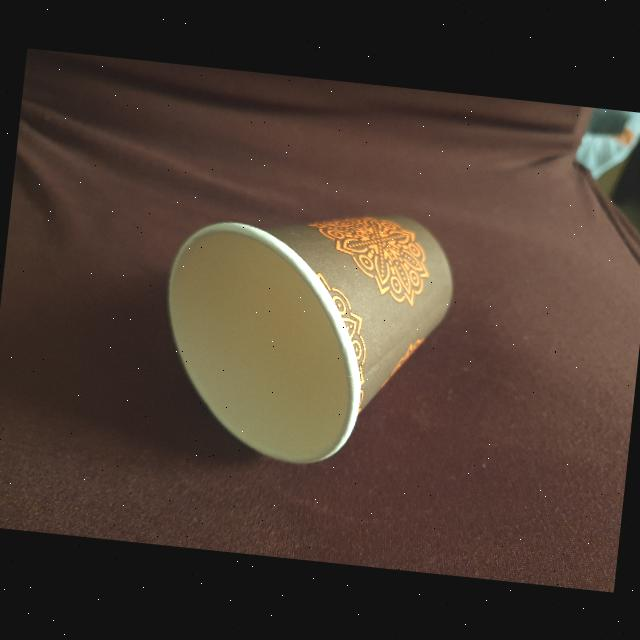trash: (140, 184, 466, 483)
